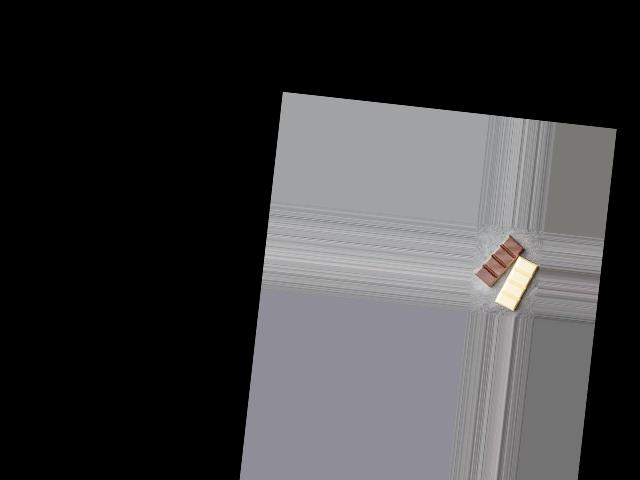chocolate: (472, 232, 540, 316)
